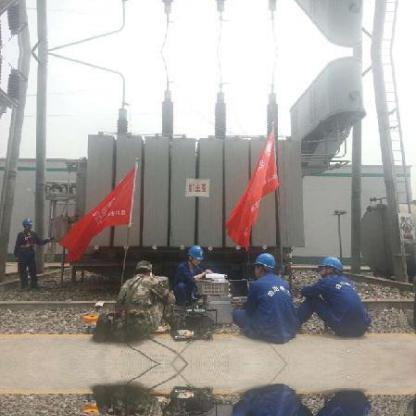helmet: (250, 253, 280, 271), (186, 243, 207, 262), (321, 258, 344, 273), (22, 216, 33, 227)
